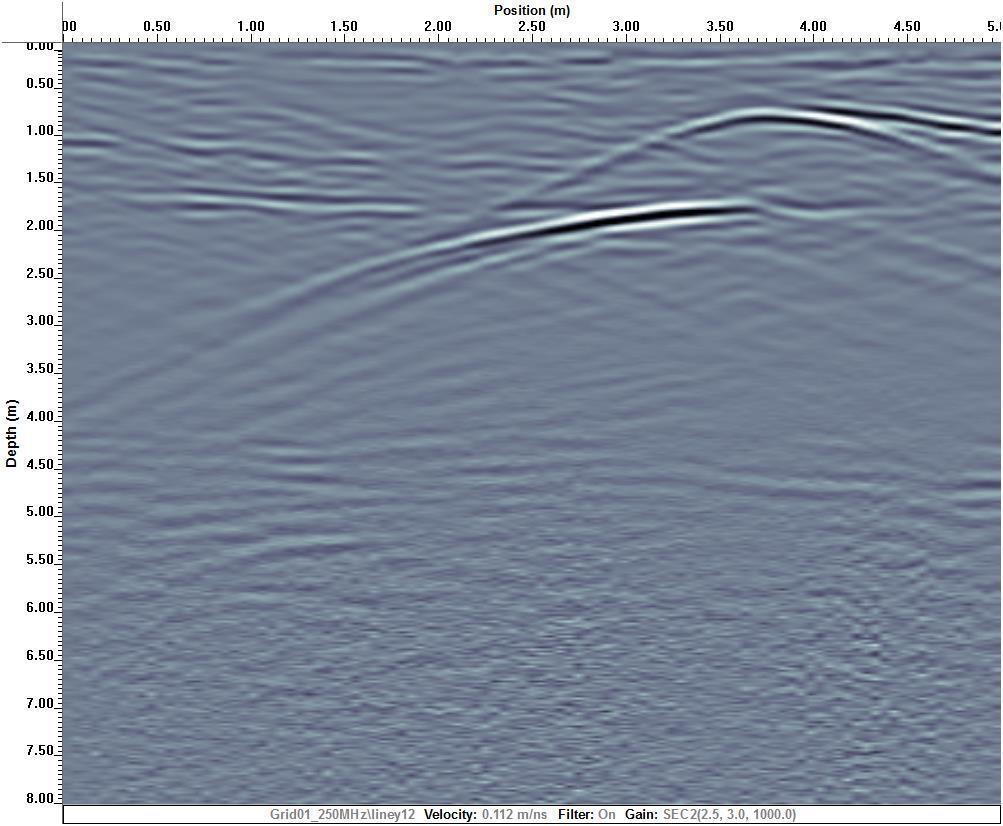hyperbola: (579, 95, 975, 184)
